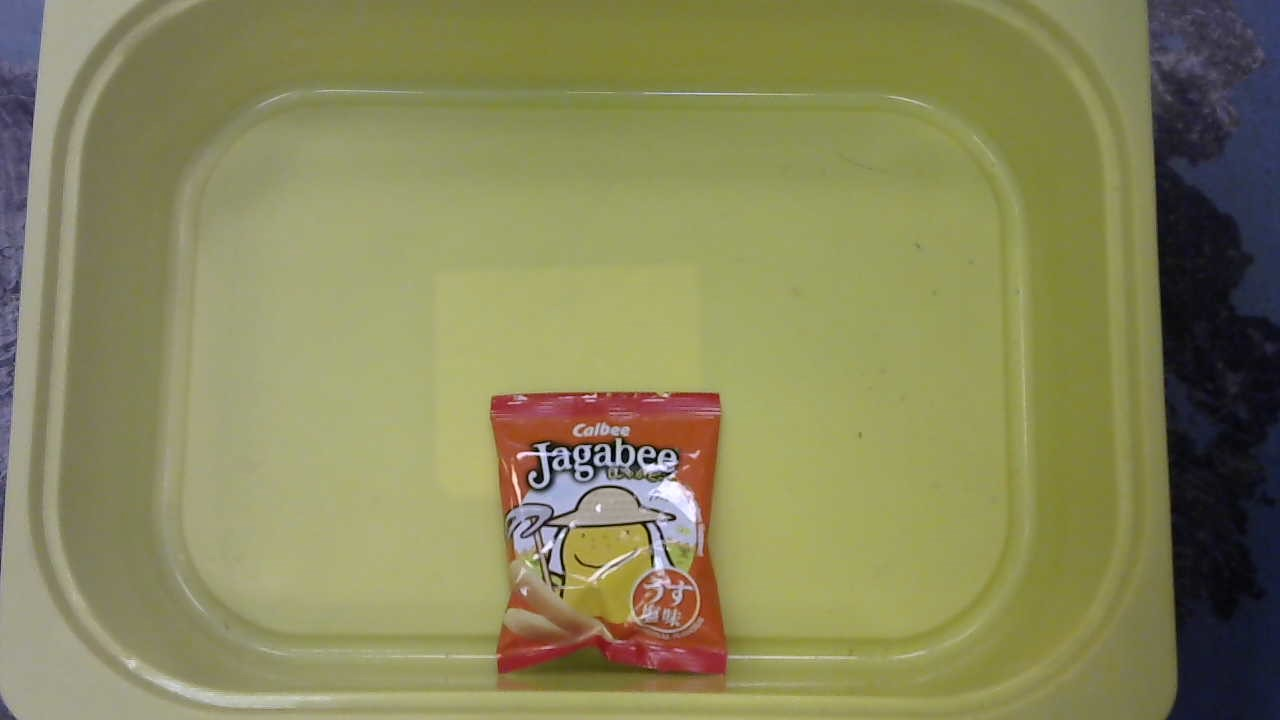JagabeeFarmer: (480, 385, 737, 680)
